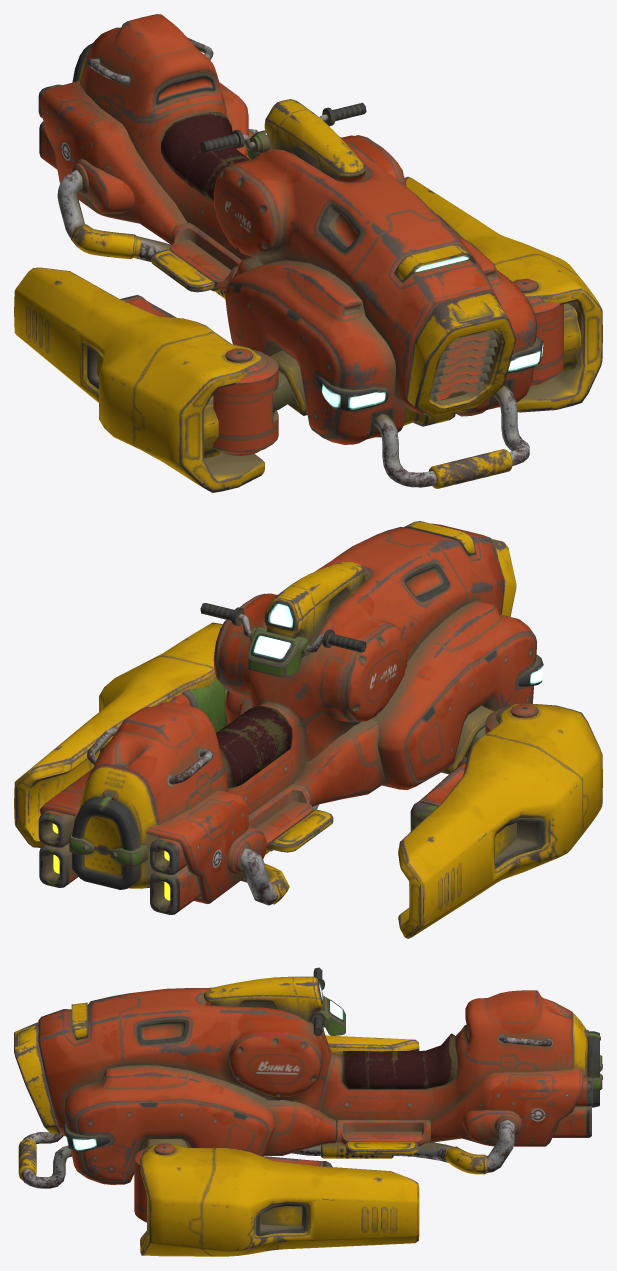
File: hover.glb
3 views of the same model, one above another, from view 1: azimuth 30°, elevation 25°; view 2: azimuth 150°, elevation 25°; view 3: azimuth 270°, elevation 25° (orthographic). The views are drawn at different scales.
Visible parts, largest first — view 1: obj_3_low, wing_2_low001, obj_4_low, obj_1_low, wing_2_low, Empty, obj_6_low; view 2: obj_3_low, wing_2_low001, obj_4_low, wing_2_low, obj_1_low, obj_6_low; view 3: obj_3_low, wing_2_low, obj_4_low, obj_1_low, wing_2_low001, obj_6_low, Empty.
Boxes of the visible parts, x1,y1,x2,y2 form: obj_3_low: (79,14,536,444); wing_2_low001: (14,267,274,492); obj_4_low: (38,37,543,487); obj_1_low: (72,43,516,488); wing_2_low: (405,176,602,412); Empty: (212,301,563,454); obj_6_low: (247,130,497,426); obj_3_low: (80,523,536,888); wing_2_low001: (398,703,602,938); obj_4_low: (38,603,543,914); wing_2_low: (14,622,227,847); obj_1_low: (72,521,516,889); obj_6_low: (99,627,311,810); obj_3_low: (38,987,587,1184); wing_2_low: (140,1143,419,1256); obj_4_low: (22,967,602,1188); obj_1_low: (14,976,599,1180); wing_2_low001: (325,1035,419,1056); obj_6_low: (264,996,600,1156); Empty: (134,1146,149,1222).
Size of the model in its own units: 2.52 by 1.39 by 3.6.
1 material, 1 textured.
